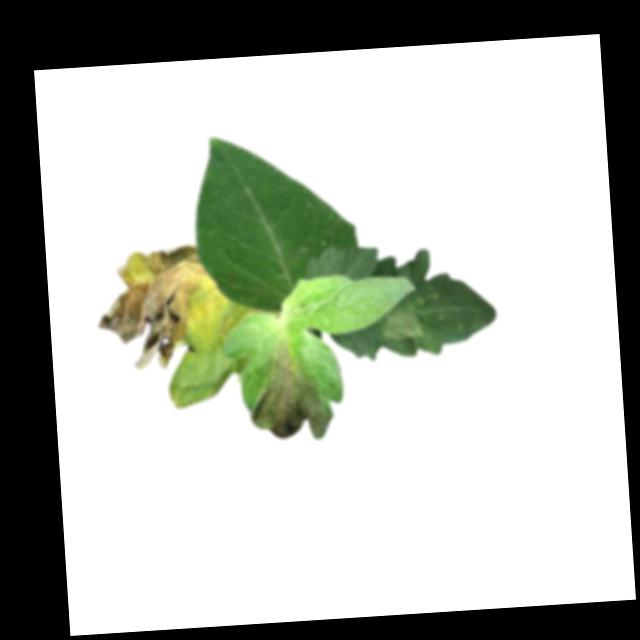Late_blight: (92, 242, 214, 374), (243, 336, 336, 446), (380, 308, 426, 340), (167, 384, 183, 409)
healthy: (188, 126, 362, 316)
